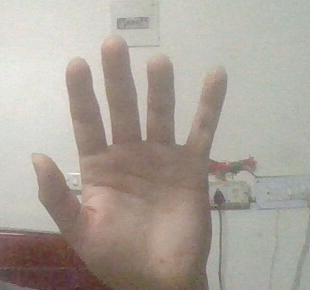move: (28, 32, 231, 288)
